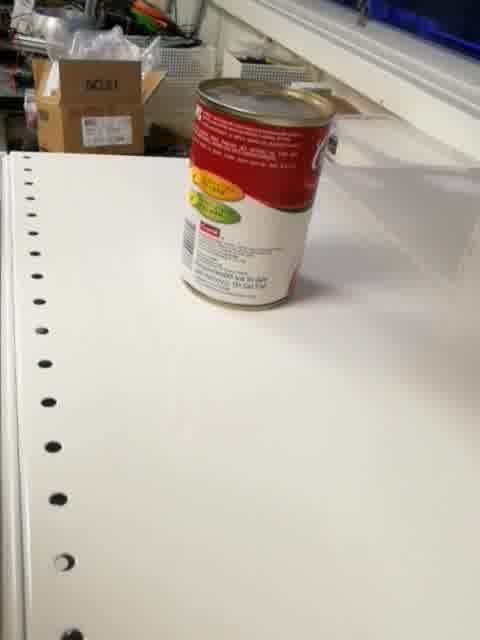tomatosoup: (179, 77, 336, 313)
